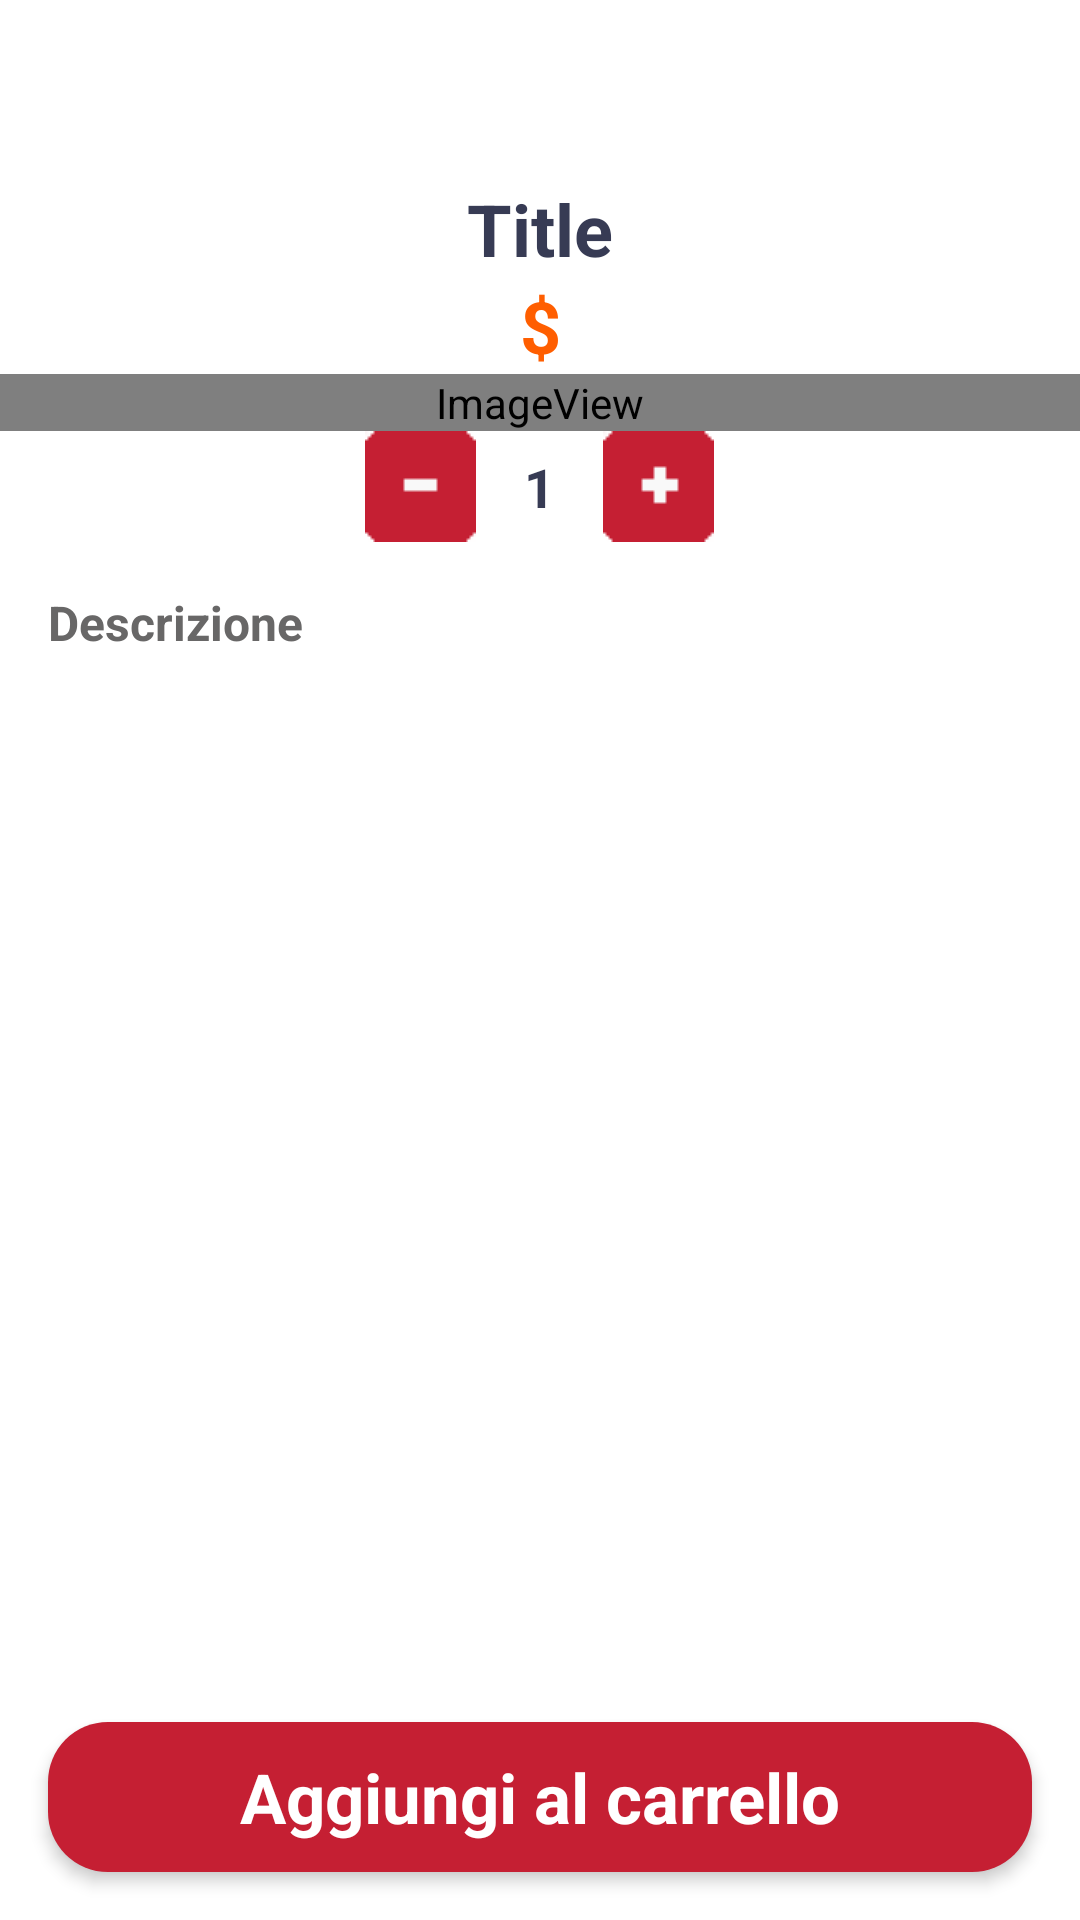

Icons on this 1080x1920 Android screen, each with the point to tap as point (x, y):
minus: point (420, 486)
plus: point (658, 486)
